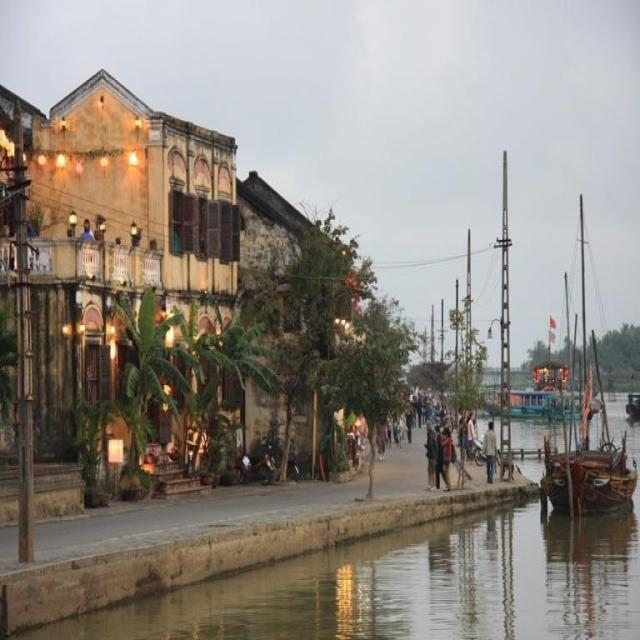boat: (545, 436, 632, 518)
